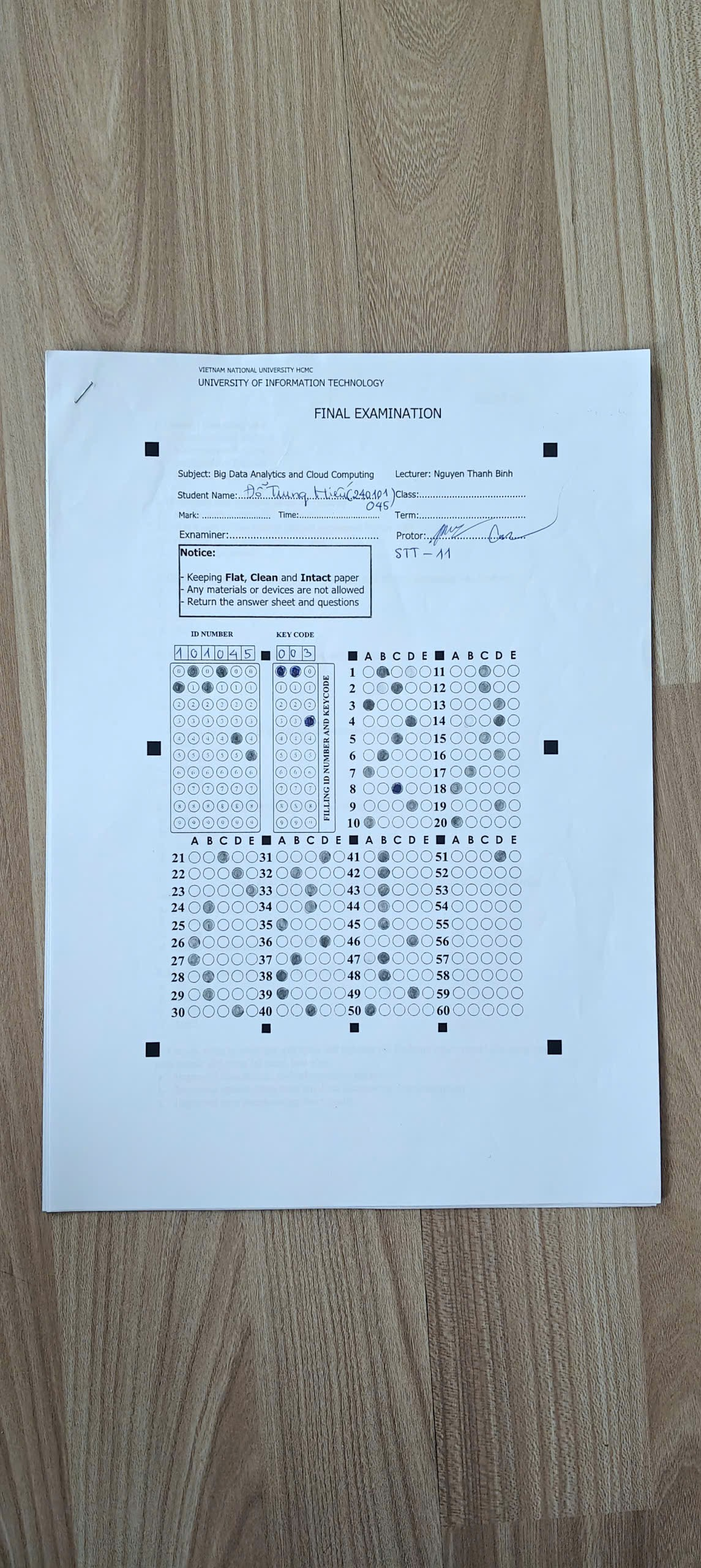info_region: (171, 664, 319, 832)
paper_region: (151, 449, 555, 1049)
q_1_20: (352, 655, 523, 840)
q_21_60: (166, 840, 526, 1028)
